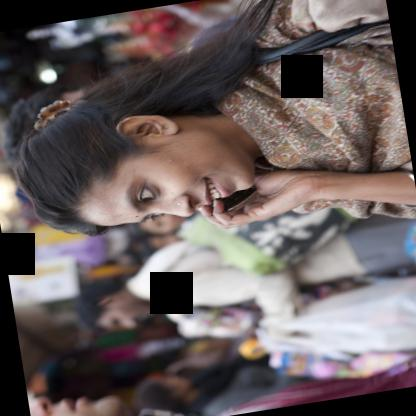handbag: (145, 209, 363, 307), (252, 275, 416, 352), (263, 18, 389, 60)
